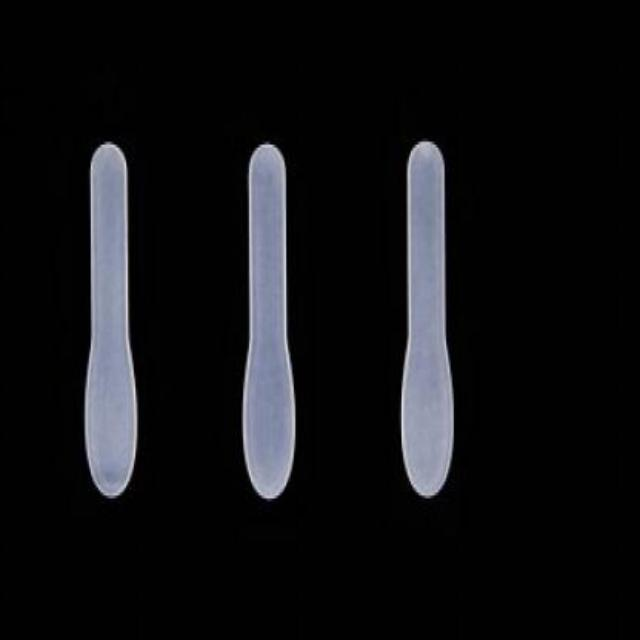plastic_cultery: (236, 143, 298, 503), (79, 141, 137, 499), (392, 138, 446, 498)
